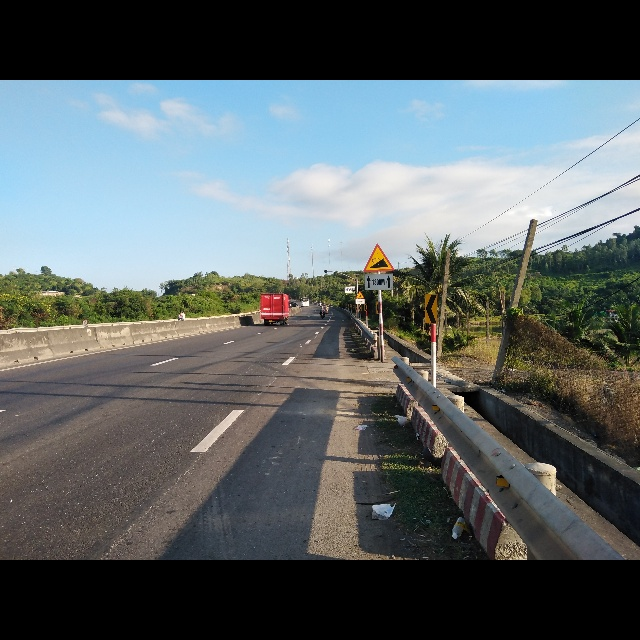Dốc lên nguy hiểm: (363, 242, 394, 273)
